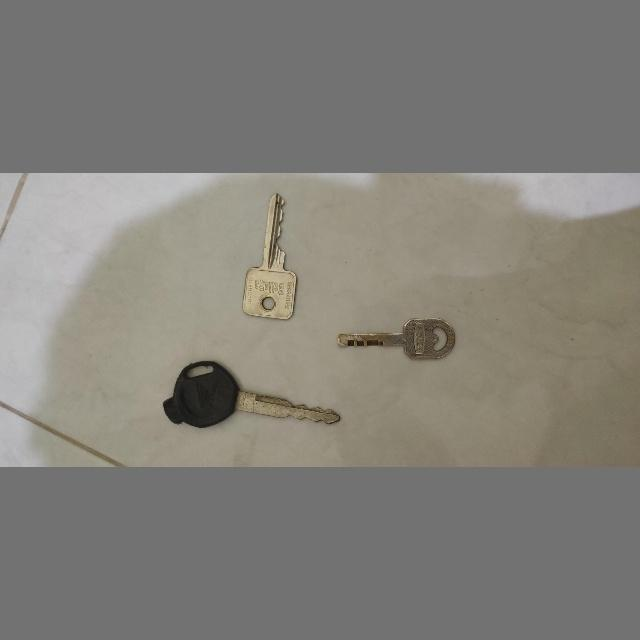Keys: (158, 354, 342, 434), (241, 187, 303, 325), (334, 315, 456, 363)
